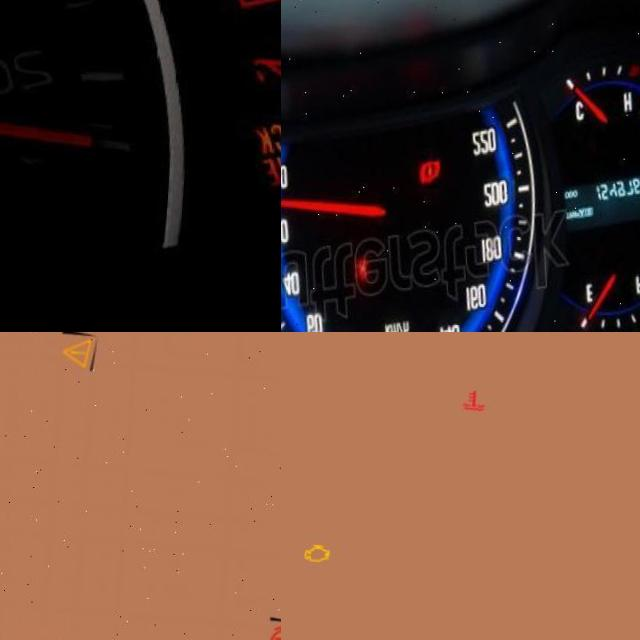High Engine Coolant Temperature: (463, 380, 493, 411)
